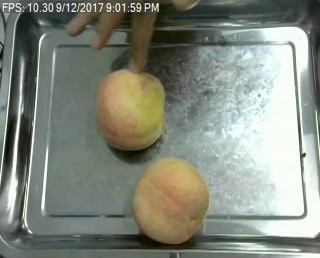Peach: (130, 156, 211, 244), (96, 69, 166, 150)
